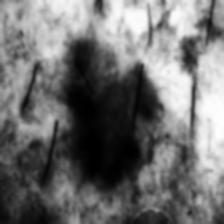Potentially Malignant Skin Tumors: (60, 42, 148, 186)
